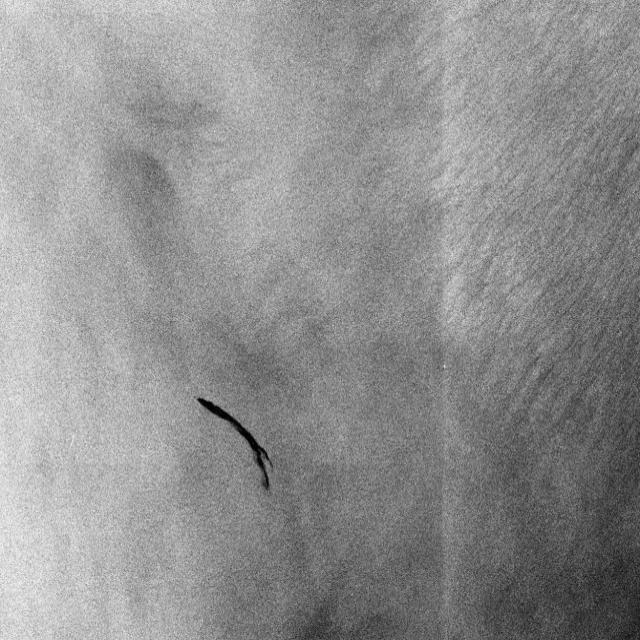oil-spill: (182, 380, 282, 498)
